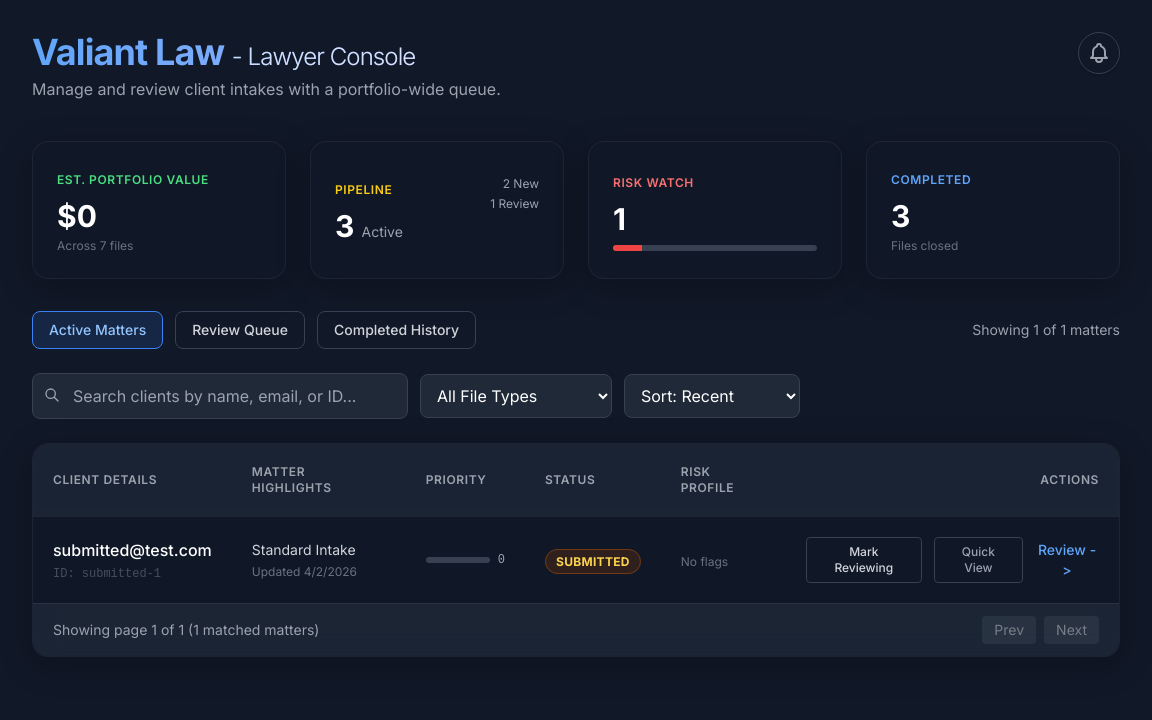
Test: LawyerDashboard › shows completed history from a dedicated completed view instead of mixing it into the default active queue
Expected: the text "closed@test.com" is not shown
Click the button "Completed History": (397, 330) [317, 311, 476, 349]
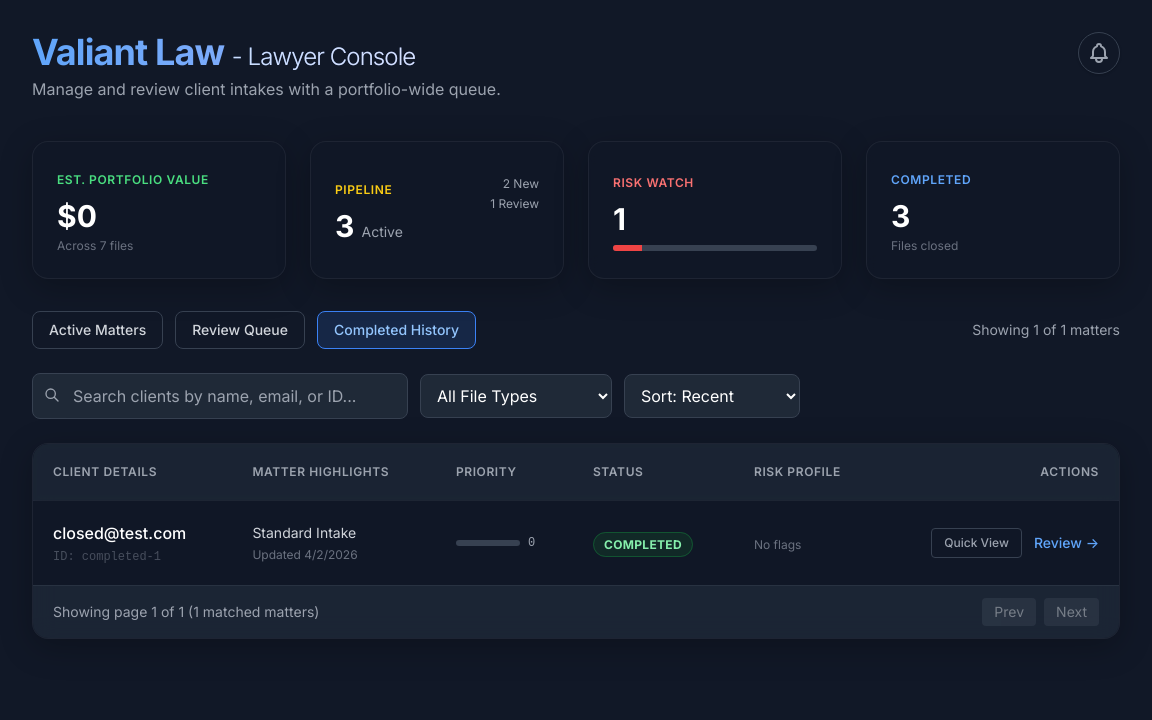
Expected: the text "Completed" is shown, [891, 172, 971, 187]
Now the text "closed@test.com" is shown, box [53, 523, 186, 543]
Now the text "submitted@test.com" is gone
